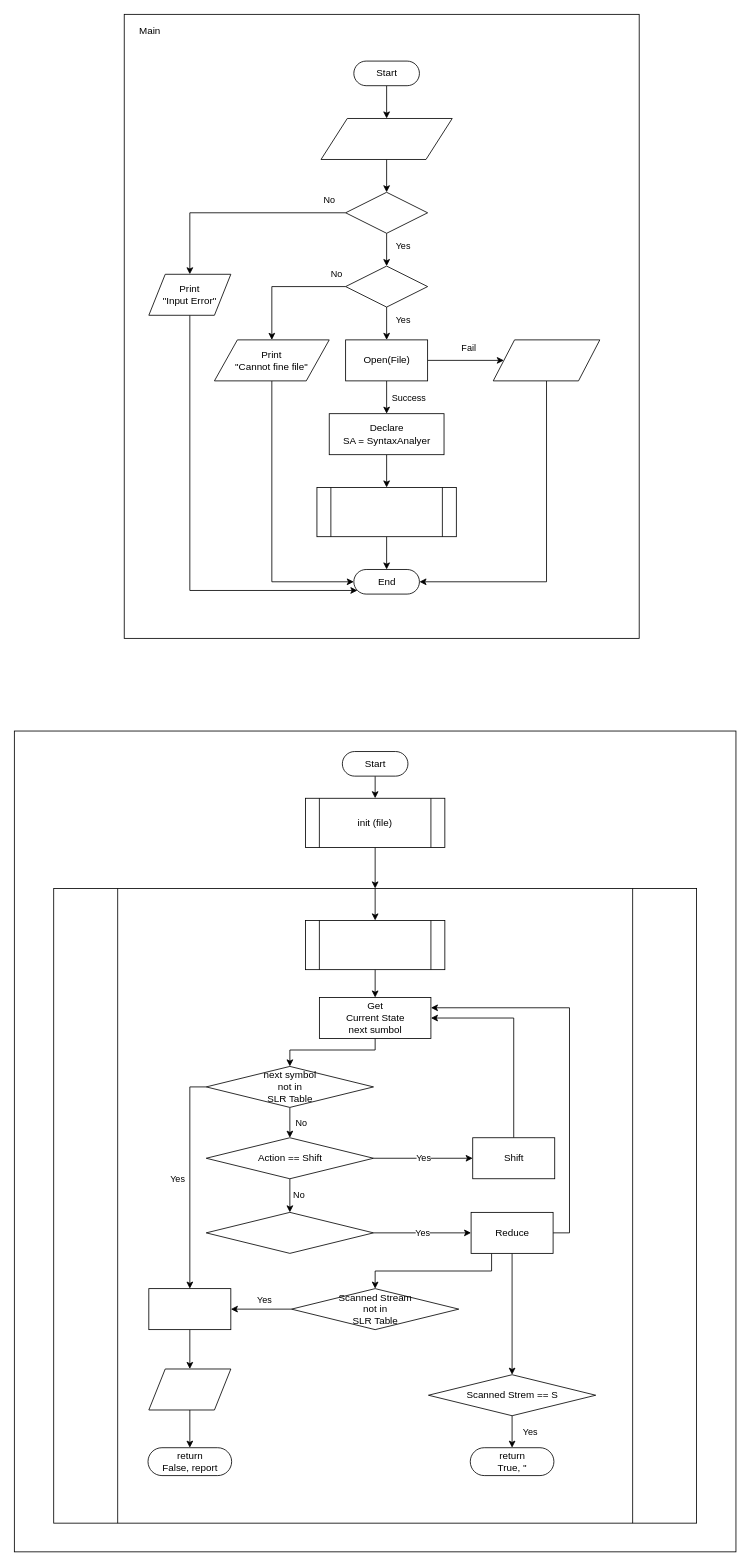
The diagram is 750 pixels wide and 1566 high, and some of its shapes have lost their labels. The shapes that lost their labels are listed below. From the top down, each one's box as (x1, y1, x2, y2) in pixels, then its label:
(320, 118, 452, 159): Get arg = File Name
(345, 191, 428, 233): # arg == 1
(345, 265, 428, 307): File Exist
(492, 339, 600, 381): "Fail to read file"
(316, 487, 456, 537): result, report = SA.run()
(305, 920, 445, 970): readFile
(205, 1212, 374, 1253): Action == Reduce
(148, 1288, 231, 1330): Generate Report
(148, 1368, 231, 1410): Print Report
